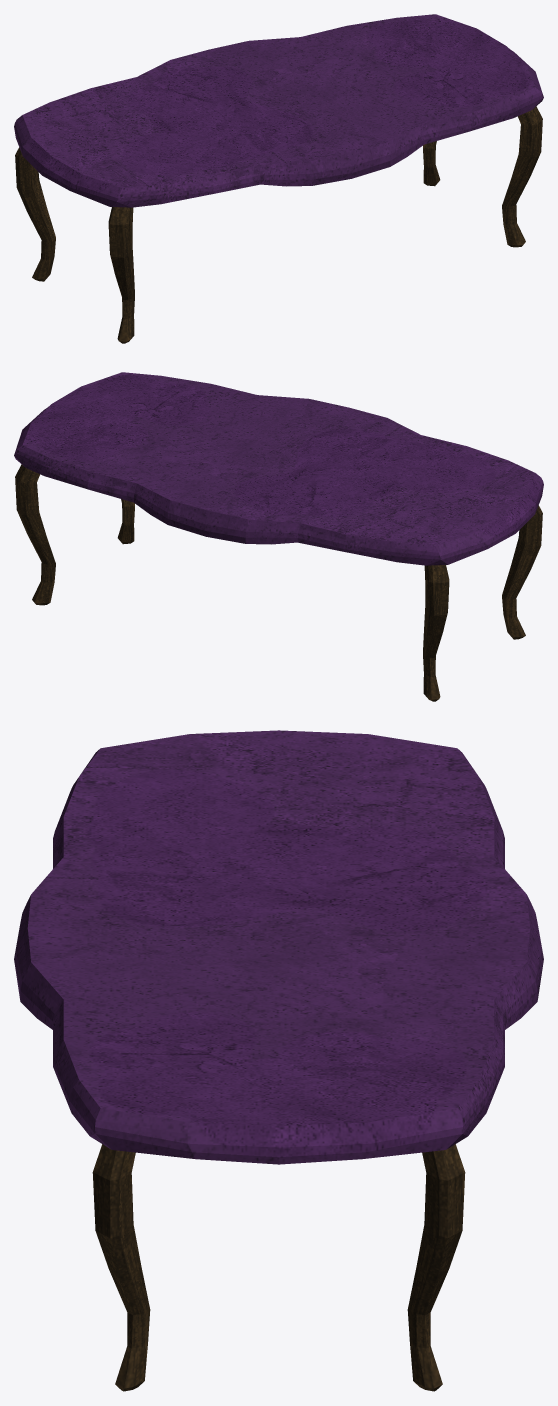
The model's file is Desk.fbx.
The picture shows the model from 3 angles, top to bottom: view 1: azimuth 30°, elevation 25°; view 2: azimuth 150°, elevation 25°; view 3: azimuth 270°, elevation 25°; orthographic projection. The views are drawn at different scales.
Visible parts, largest first — view 1: Desk; view 2: Desk; view 3: Desk.
Boxes of the visible parts, bbox=[...] form: Desk: bbox=[14, 14, 543, 343]; Desk: bbox=[14, 372, 543, 701]; Desk: bbox=[14, 730, 543, 1391].
Size of the model in its own units: 3.18 by 1.04 by 1.73.
